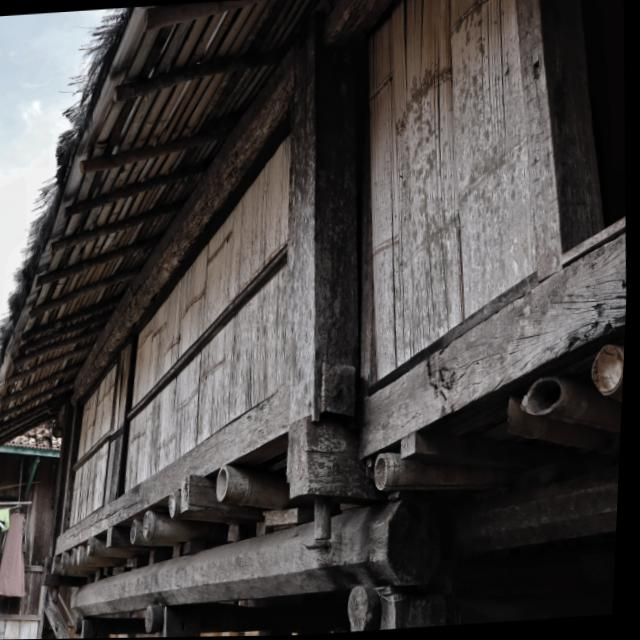Atap: (0, 0, 311, 448)
